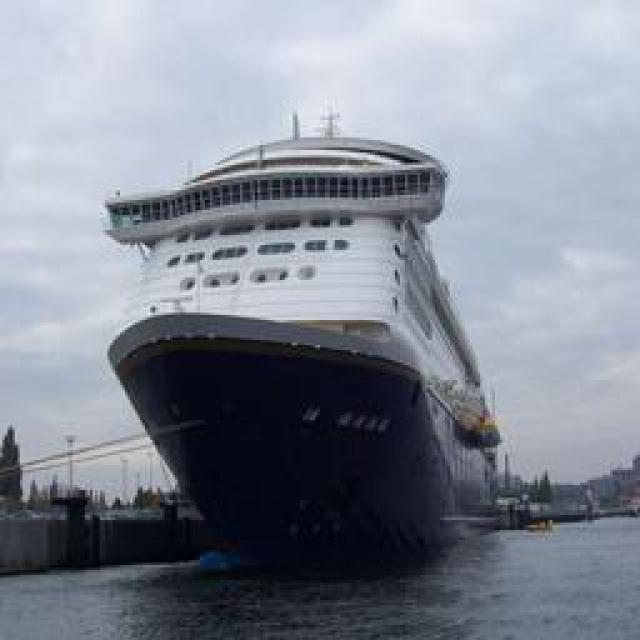Ship: (97, 101, 515, 574)
